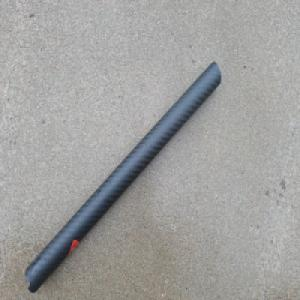LuggagePart: (24, 60, 221, 295)
